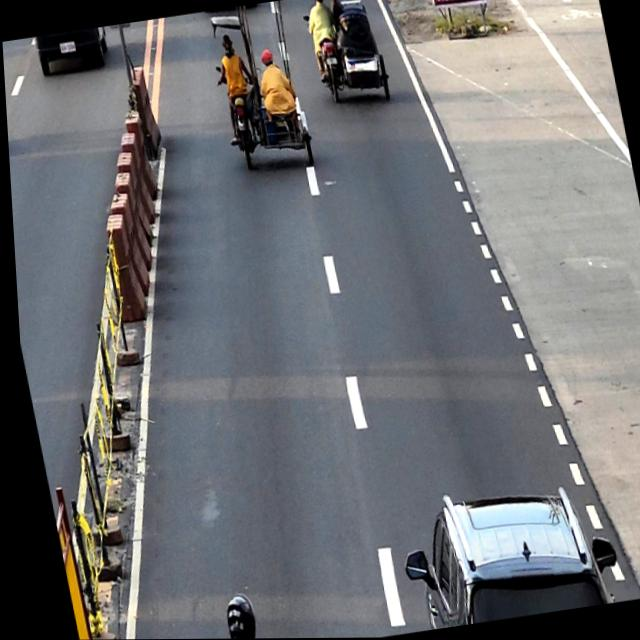Car: (384, 470, 619, 632), (33, 26, 111, 74)
License-Plate: (58, 41, 76, 54), (325, 58, 337, 66)
Tricycle: (208, 5, 315, 170), (301, 0, 394, 108)
